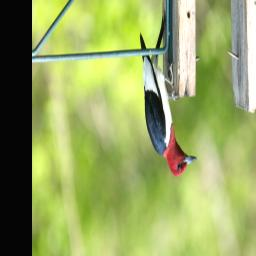Woodpecker: (139, 33, 197, 177)
